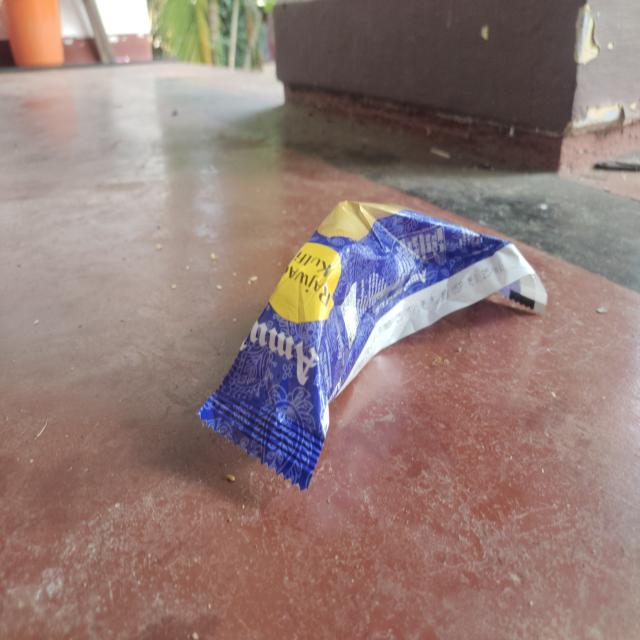plastic: (203, 200, 547, 494)
